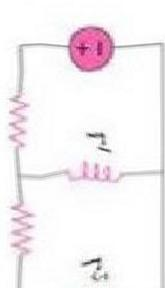Battery: (53, 18, 121, 81)
